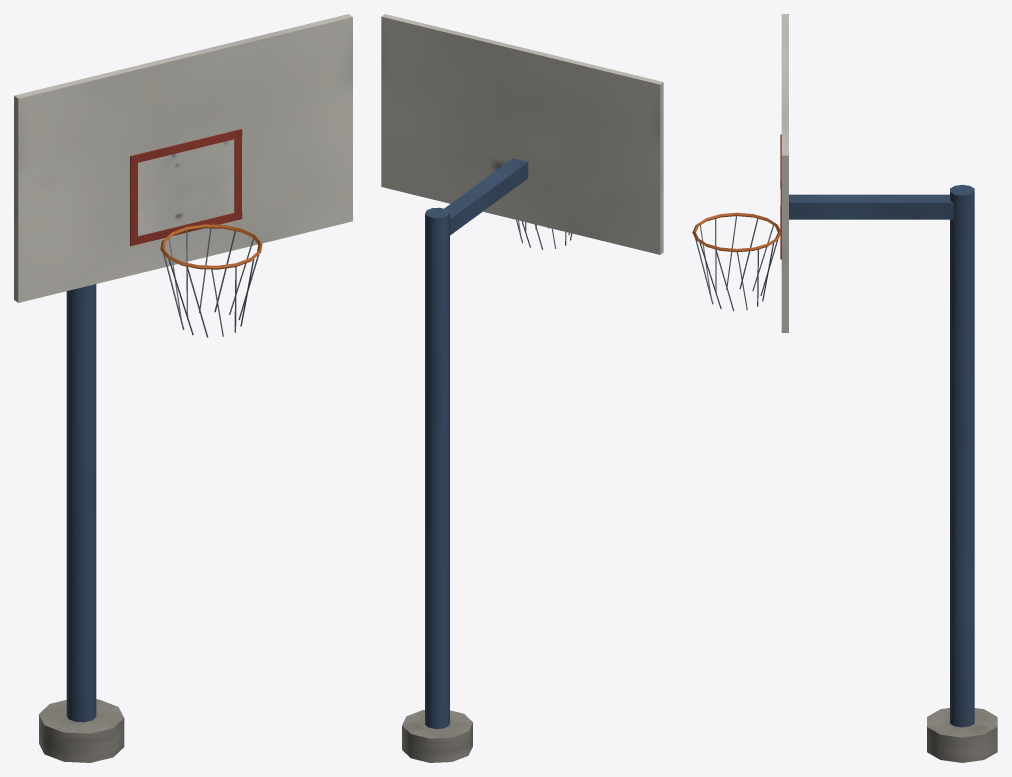
Rendered from basketball_hoop.fbx.
The picture shows the model from 3 angles, left to right: view 1: azimuth 30°, elevation 25°; view 2: azimuth 150°, elevation 25°; view 3: azimuth 270°, elevation 25°; orthographic projection. The views are drawn at different scales.
Parts seen in each view (by area): view 1: basketball_hoop_board, basketball_hoop; view 2: basketball_hoop_board, basketball_hoop; view 3: basketball_hoop, basketball_hoop_board.
Boxes of the visible parts, bbox=[...] form: basketball_hoop_board: bbox=[14, 14, 352, 337]; basketball_hoop: bbox=[39, 284, 124, 762]; basketball_hoop_board: bbox=[381, 14, 663, 254]; basketball_hoop: bbox=[402, 207, 472, 762]; basketball_hoop: bbox=[927, 184, 997, 762]; basketball_hoop_board: bbox=[692, 14, 953, 332].
Bounding box in the file's own units: 1.8 × 3.92 × 1.64.
1 material, 1 textured.
